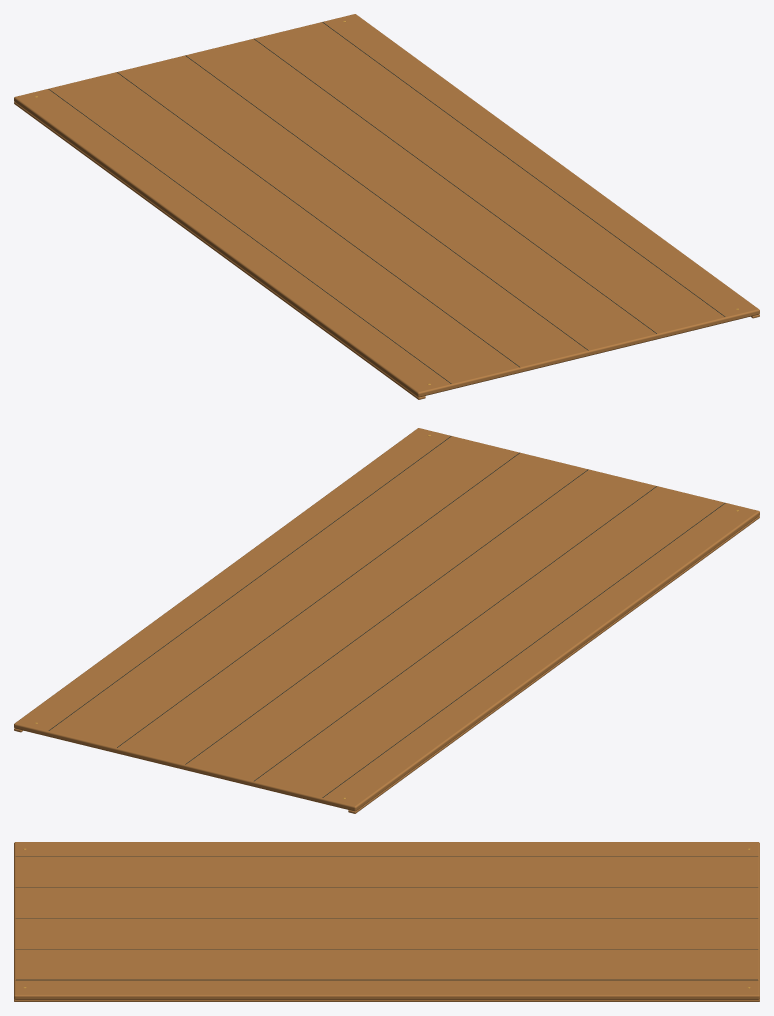
The model's file is lower-board-light.glb.
3 renders of one model, top to bottom at view 1: azimuth 30°, elevation 25°; view 2: azimuth 150°, elevation 25°; view 3: azimuth 270°, elevation 25°, orthographic. The views are drawn at different scales.
Visible parts, largest first — view 1: wood, dark; view 2: wood, dark; view 3: wood, dark.
Part boxes in pixels (x1,y1,x2,y2): wood: (14,14,759,399); dark: (48,22,725,383); wood: (14,428,759,813); dark: (48,436,725,797); wood: (14,842,759,1001); dark: (16,856,757,980).
Bounding box in the file's own units: 10 × 0.221 × 20.48.
